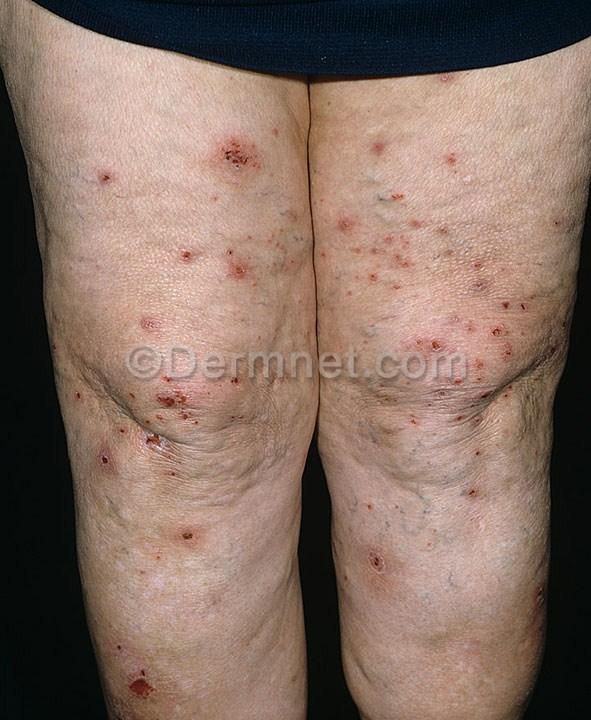Eczema: (329, 110, 577, 386), (92, 255, 287, 484), (113, 61, 289, 251), (412, 396, 544, 501), (336, 500, 448, 601), (145, 479, 224, 600), (103, 612, 185, 715), (70, 151, 148, 215)
